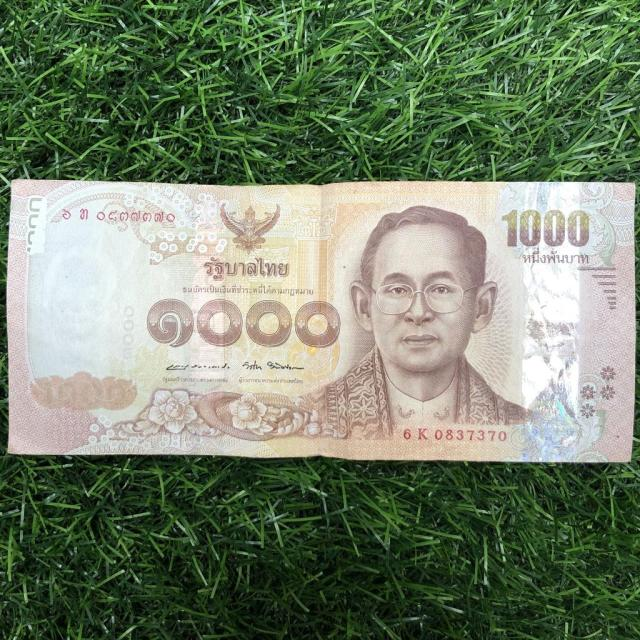THAI1000: (8, 180, 634, 462)
